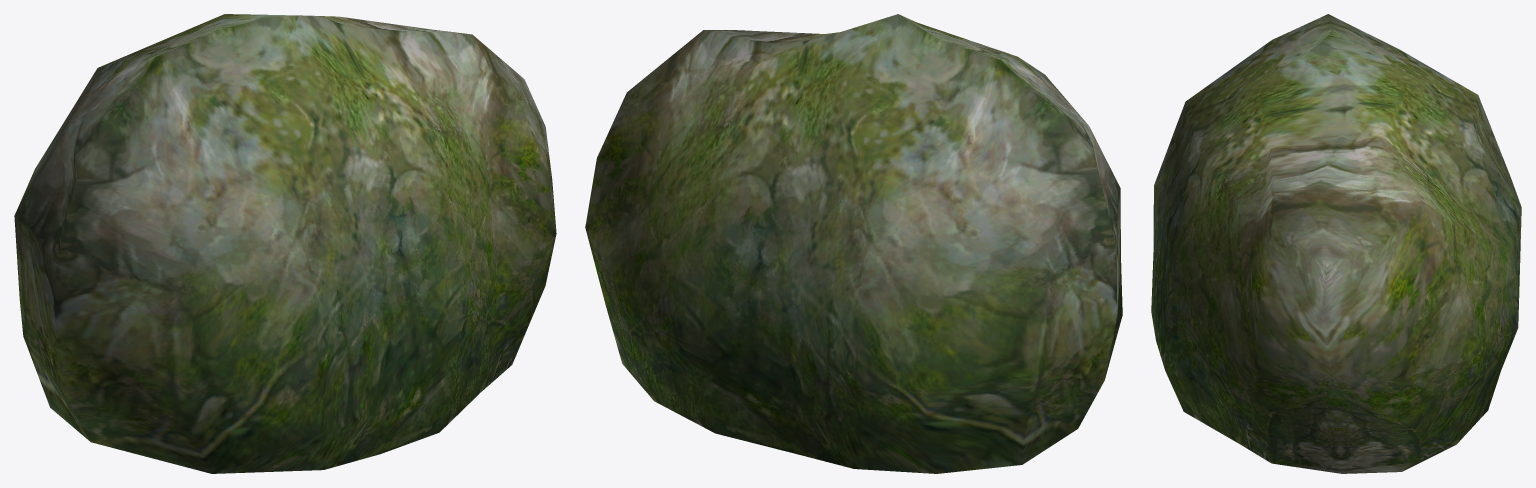
The model's file is S_Rock_Green059.FBX.
3 renders of one model, left to right at view 1: azimuth 30°, elevation 25°; view 2: azimuth 150°, elevation 25°; view 3: azimuth 270°, elevation 25°, orthographic. The views are drawn at different scales.
Visible parts, largest first — view 1: S_Rock_Green059; view 2: S_Rock_Green059; view 3: S_Rock_Green059.
Part boxes in pixels (x1,y1,x2,y2): S_Rock_Green059: [14, 14, 556, 473]; S_Rock_Green059: [585, 14, 1122, 473]; S_Rock_Green059: [1151, 14, 1521, 473].
Bounding box in the file's own units: 468 × 342 × 338.
